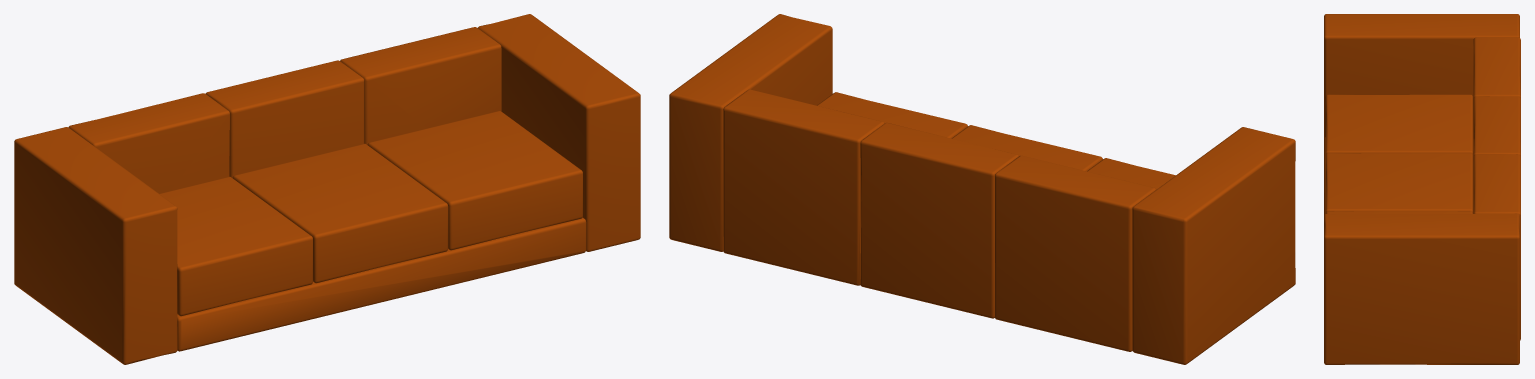
Rendered from sofa.fbx.
3 renders of one model, left to right at view 1: azimuth 30°, elevation 25°; view 2: azimuth 150°, elevation 25°; view 3: azimuth 270°, elevation 25°, orthographic. The views are drawn at different scales.
Visible parts, largest first — view 1: couch; view 2: couch; view 3: couch.
Part boxes in pixels (<box>): couch: <box>14,14,640,364</box>; couch: <box>669,14,1295,364</box>; couch: <box>1324,14,1520,364</box>.
Size of the model in its own units: 1.01 by 0.2734 by 0.3767.
